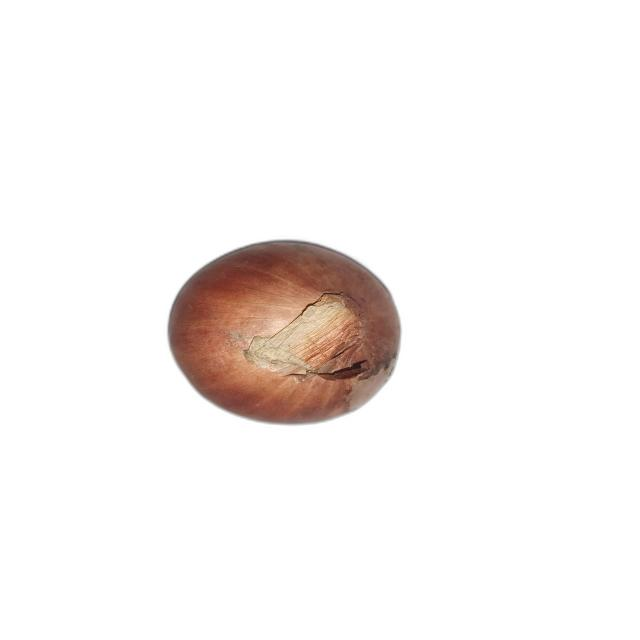onion: (166, 240, 402, 425)
